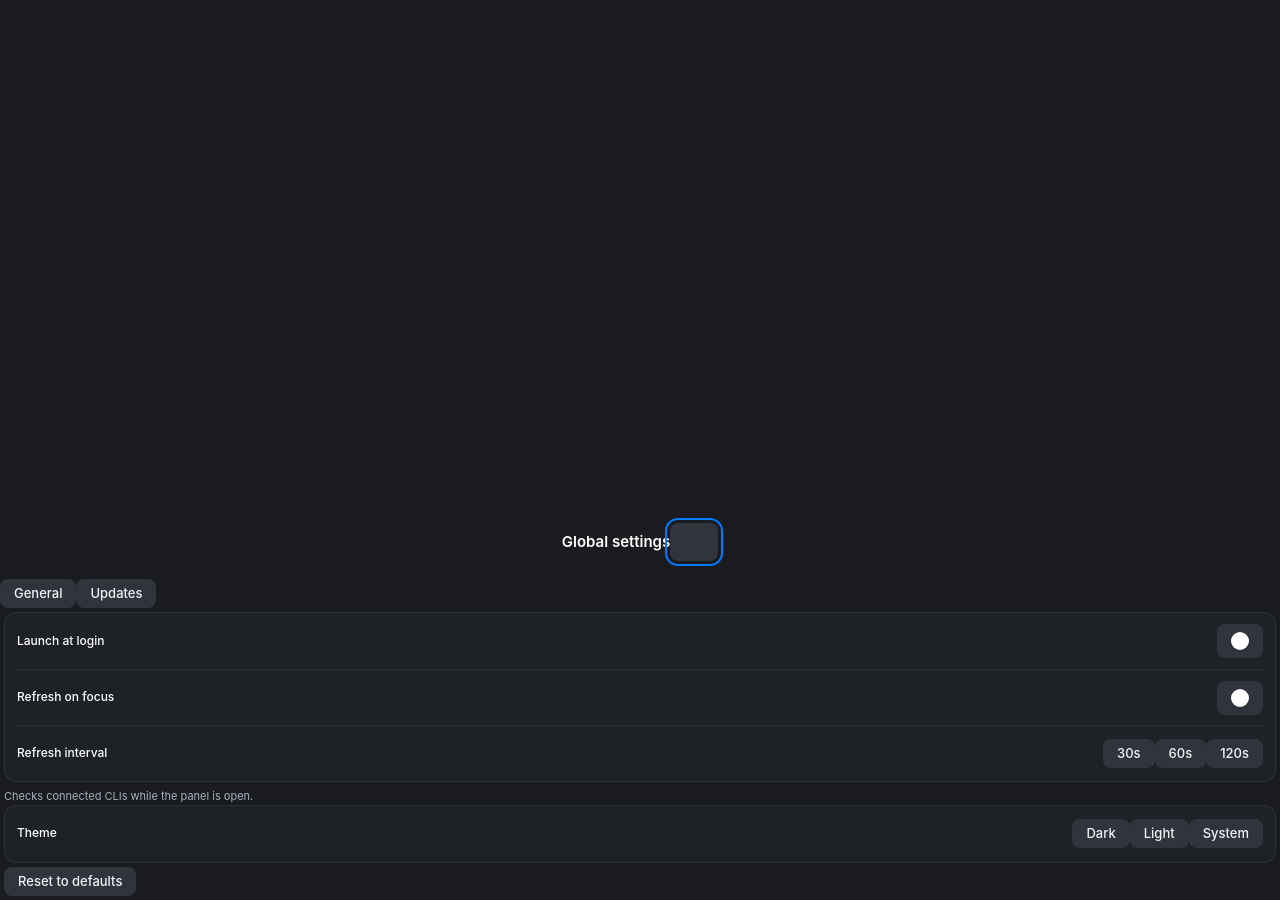
Test case: SettingsModal updates › shows the running version and reports when on latest
(page scrolled)
Click the tab "Updates". click: (116, 594)
box: [76, 579, 156, 608]
(page scrolled)
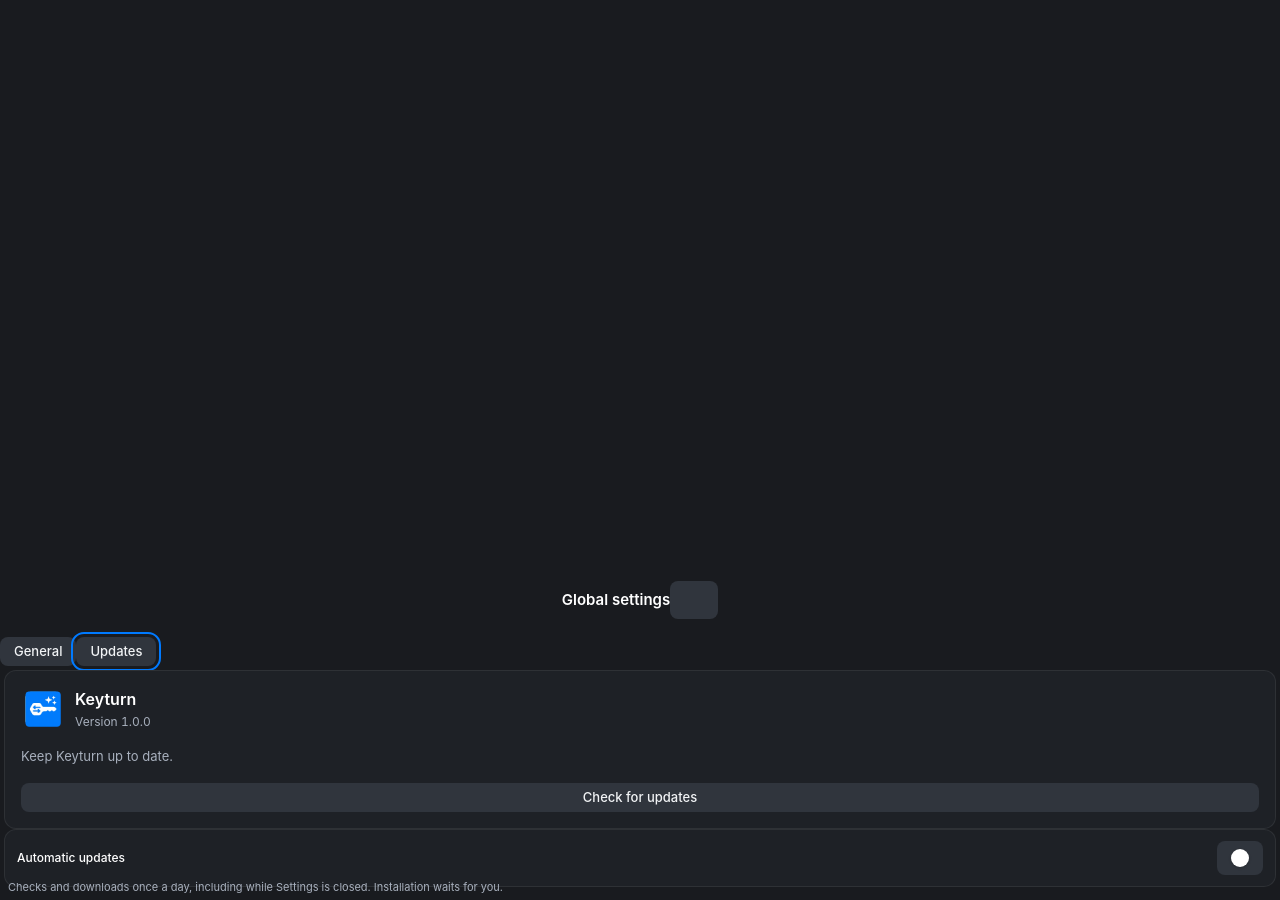
Expected: the text "1.0.0" is shown, [121, 714, 151, 729]
Click the button "Check for updates". click: (640, 798)
box: [21, 783, 1259, 812]
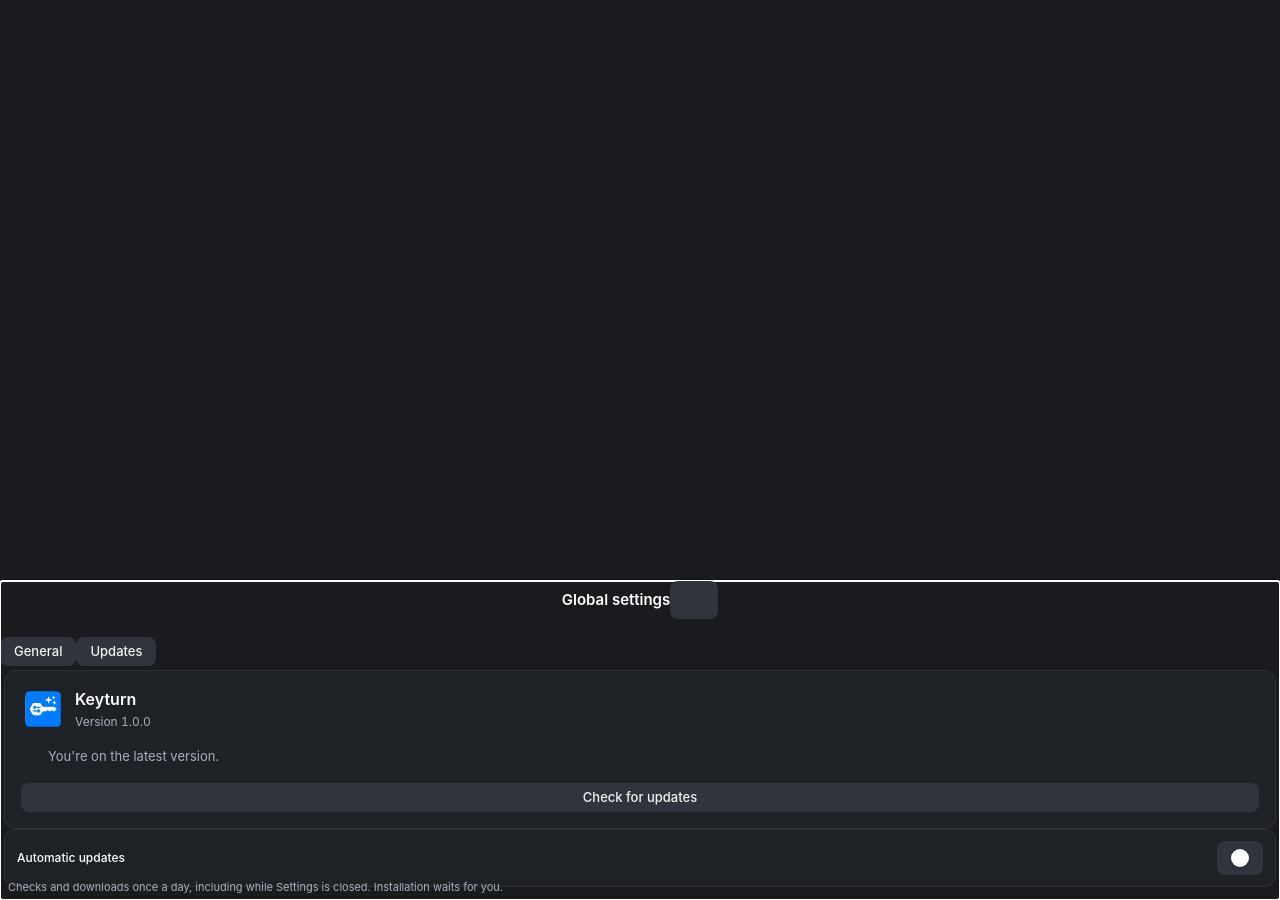
Expected: the text "You're on the latest version." is shown, [48, 747, 219, 767]
